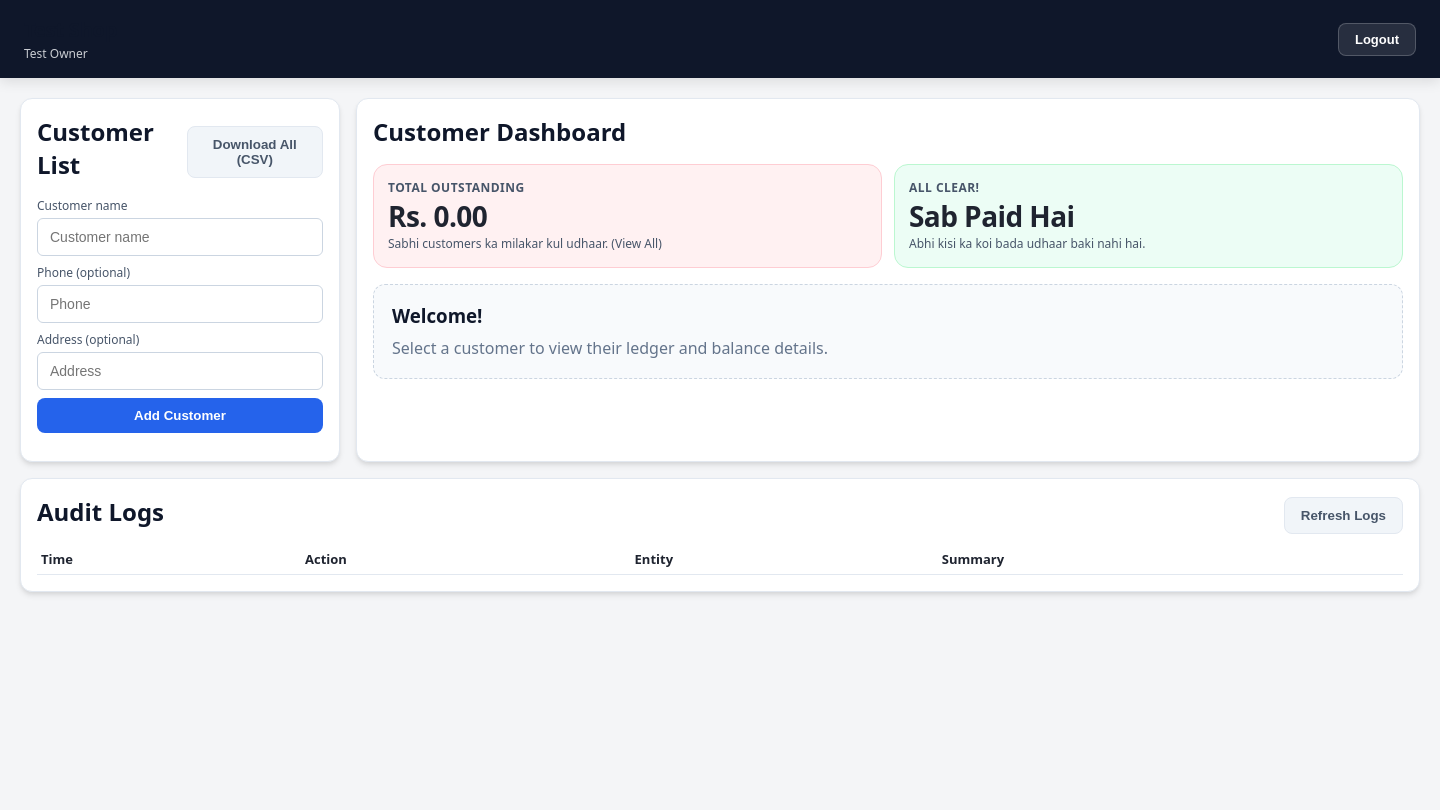
Test case: App Component › should only allow numbers in phone field
// Simulating typing alphabets and special characters
Type "123abc#@!" into the field with placeholder "Phone" at (180, 304), box 37,285 -> 323,323
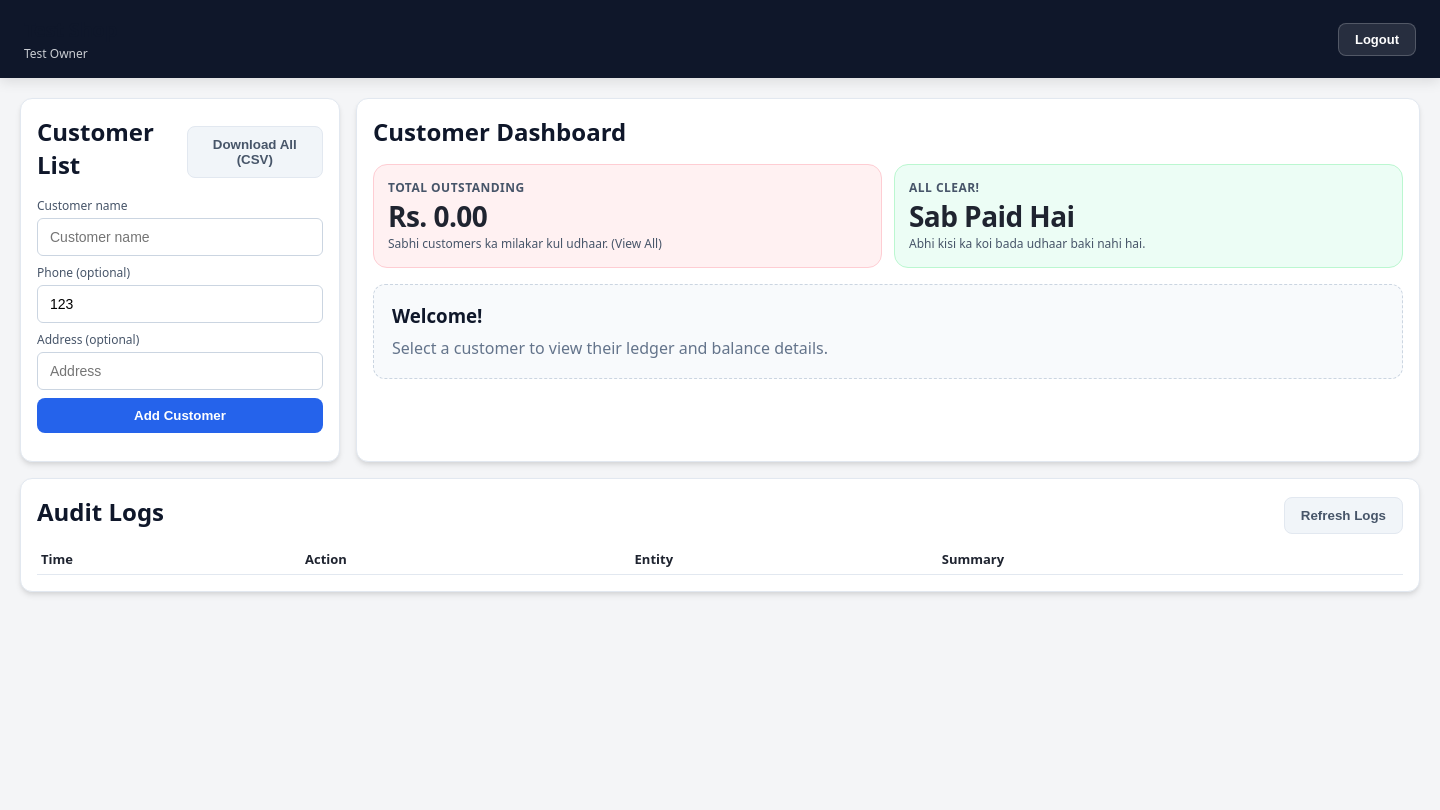
Now the field with placeholder "Phone" holds "123", box 37,285 -> 323,323
